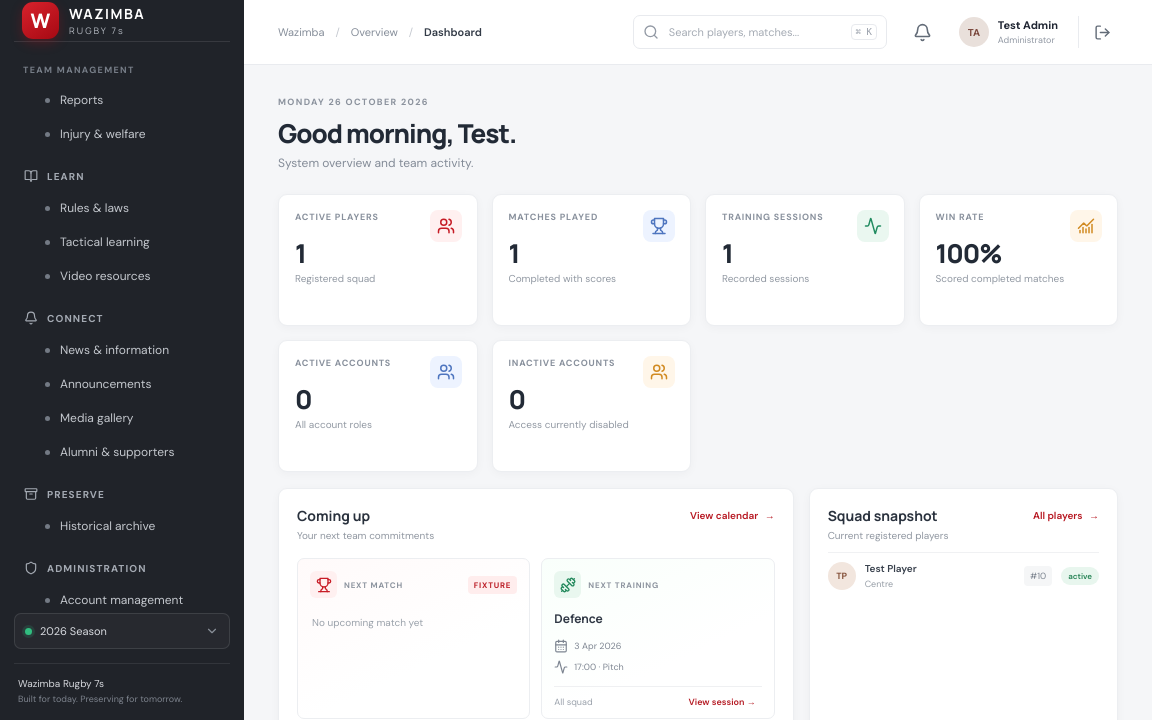
Test: Wazimba app interactions › rotates published featured stories and opens the saved article detail
(page scrolled)
Click the button "News & information": (122, 350) [14,333,230,367]
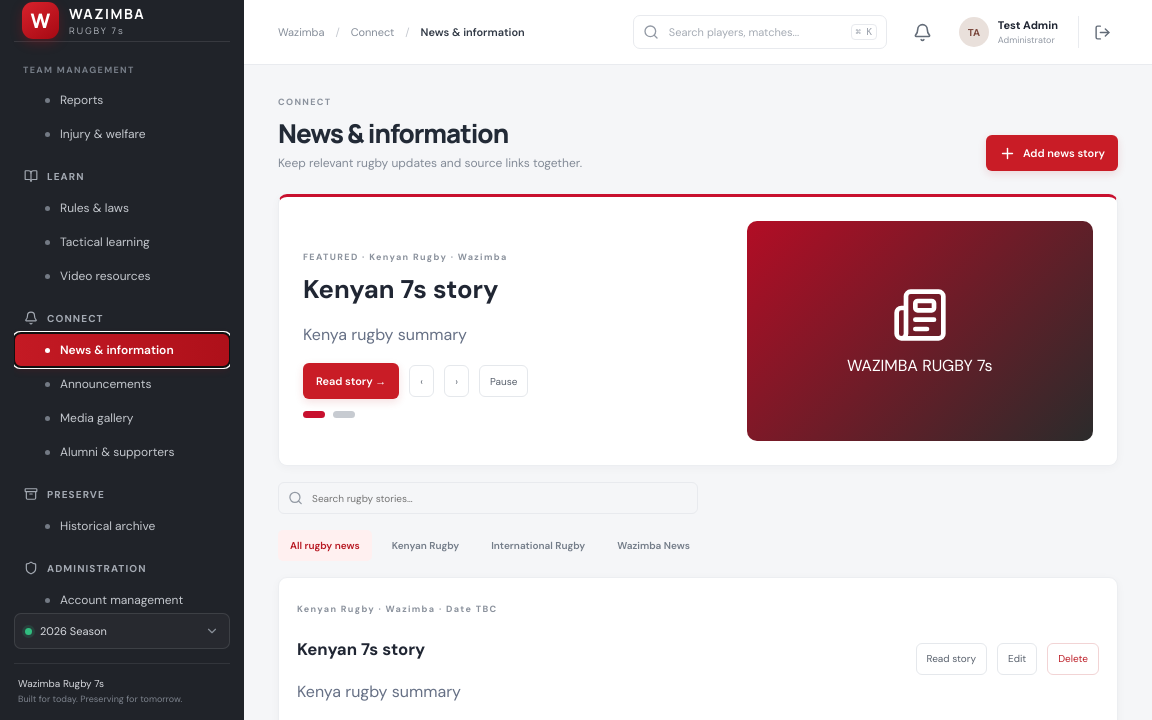
expect the button "Kenyan 7s story" below "FEATURED ·" is shown: met, box [303,273,498,306]
Click the button named "Next featured story": (456, 381) [444,365,469,397]
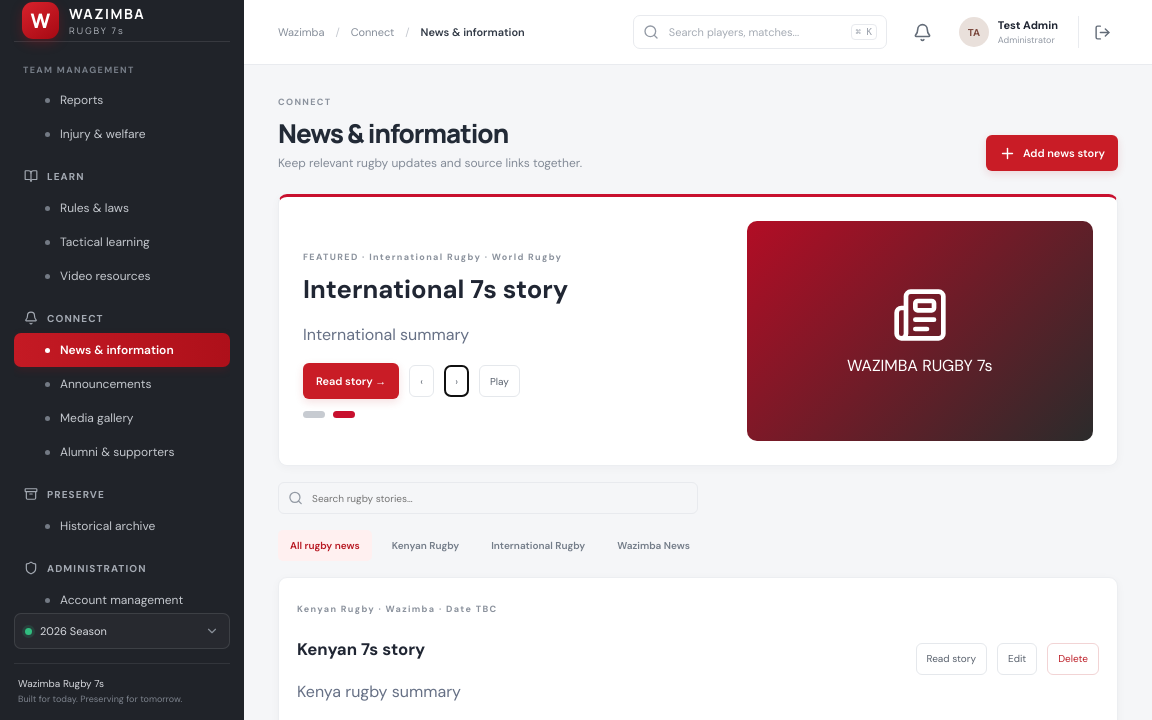
expect the button "International 7s story" is shown: met, box [303,273,568,306]
Click the button "Read story →": (351, 381) [303,363,399,399]
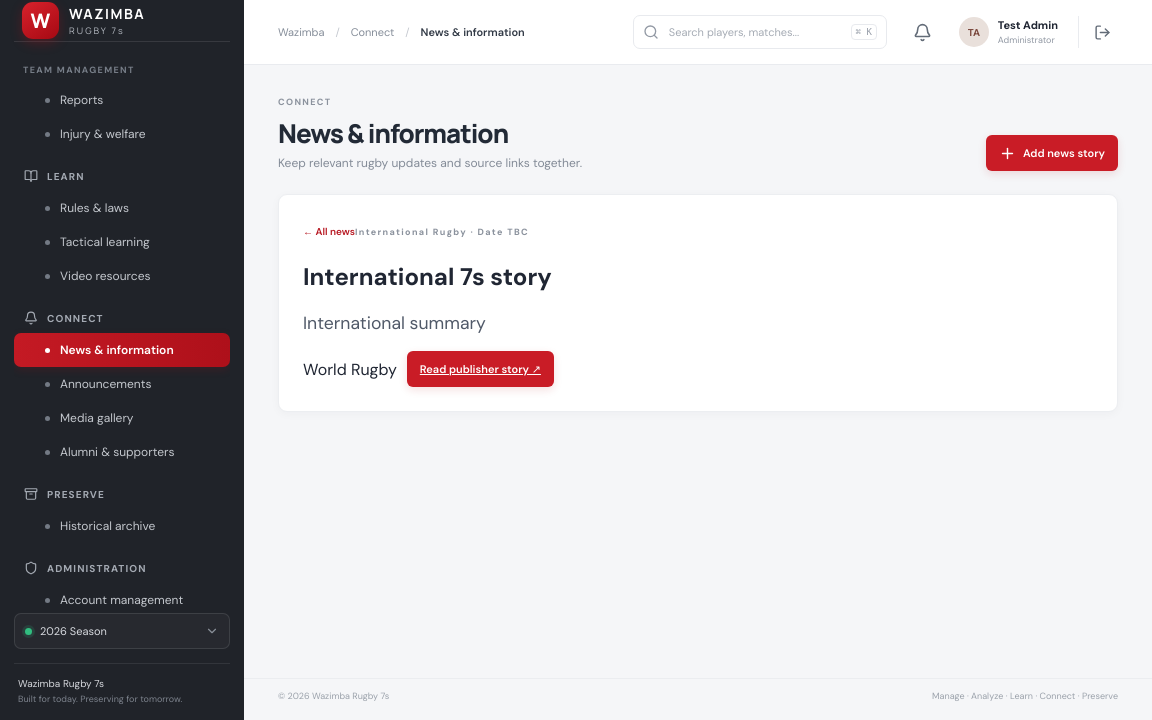
expect the heading "International 7s story" is shown: met, box [303,261,552,292]
expect the link "Read publisher story ↗" is shown: met, box [407,351,554,387]
